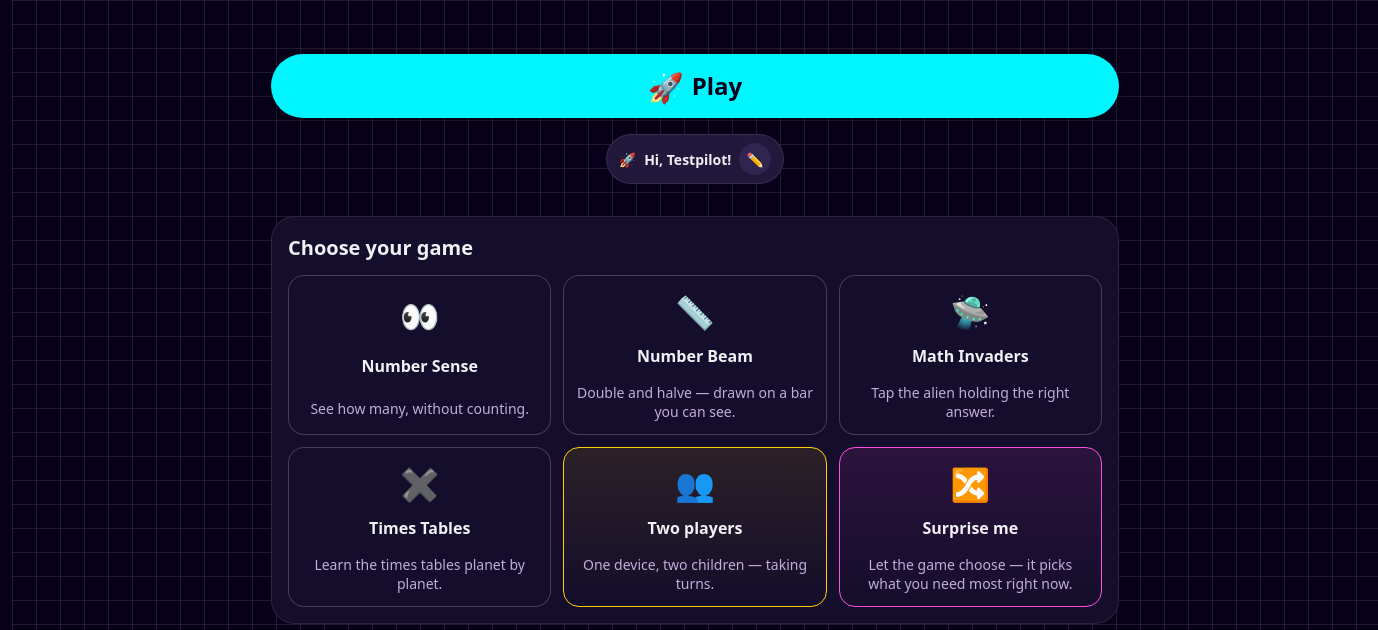
Test: HomePage › offers a two-player round from the picker, rather than only from inside the arcade
The width and height of the screenshot is (1378, 630).
(page scrolled)
Click the button "👥 Two players One device, two children — taking turns." at (695, 527), box [563,447,827,607]
(page scrolled)
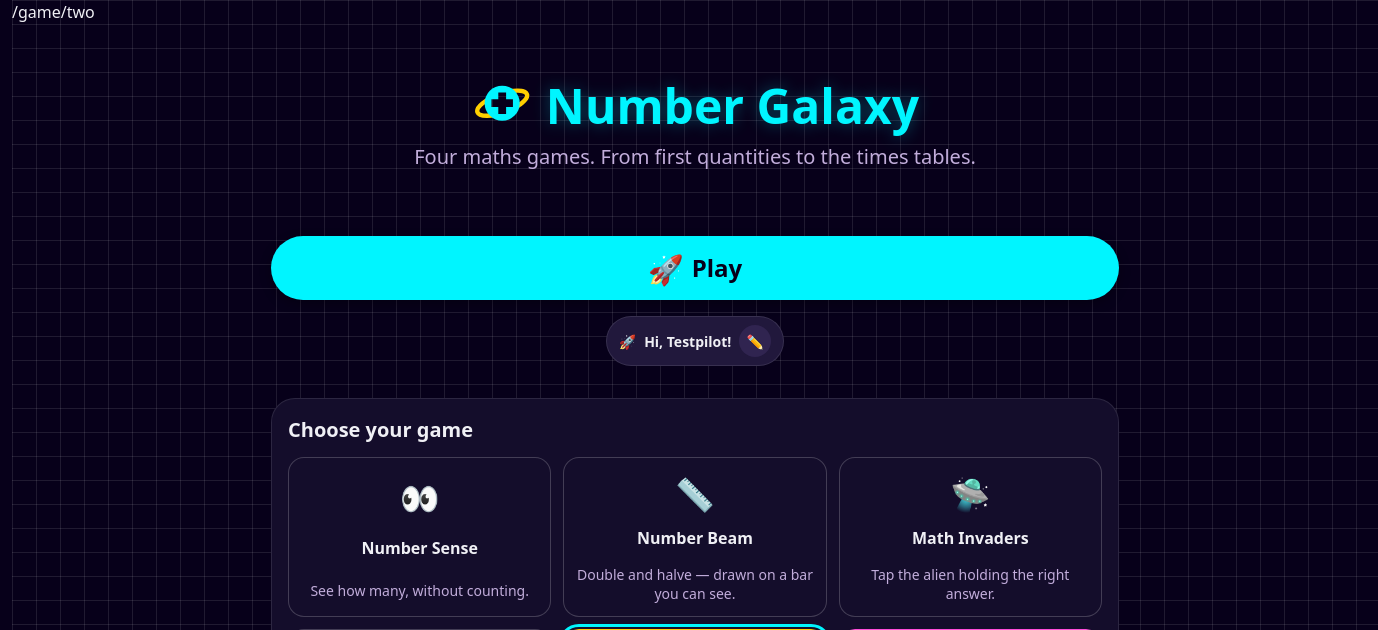
Expected: the text with test id "test-location" reads "/game/two", [12,1,95,23]
